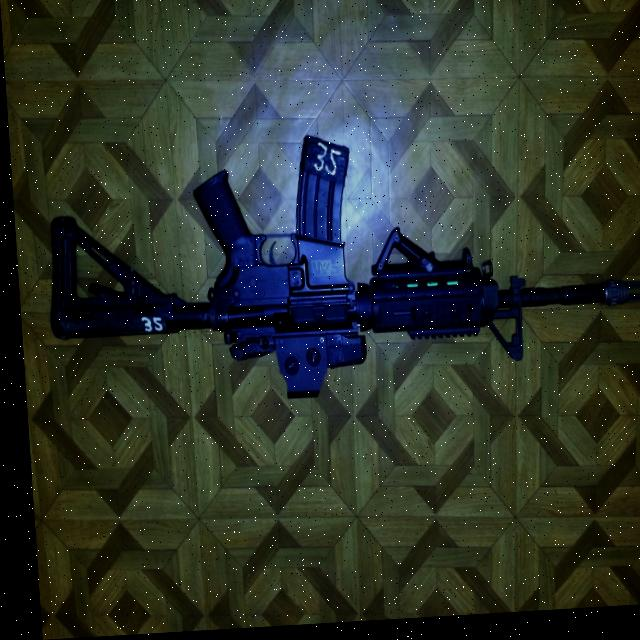firearm: (39, 123, 640, 414)
